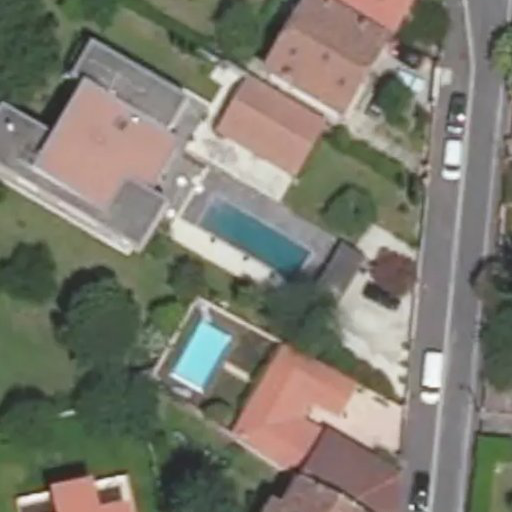pool: (193, 224, 318, 259)
